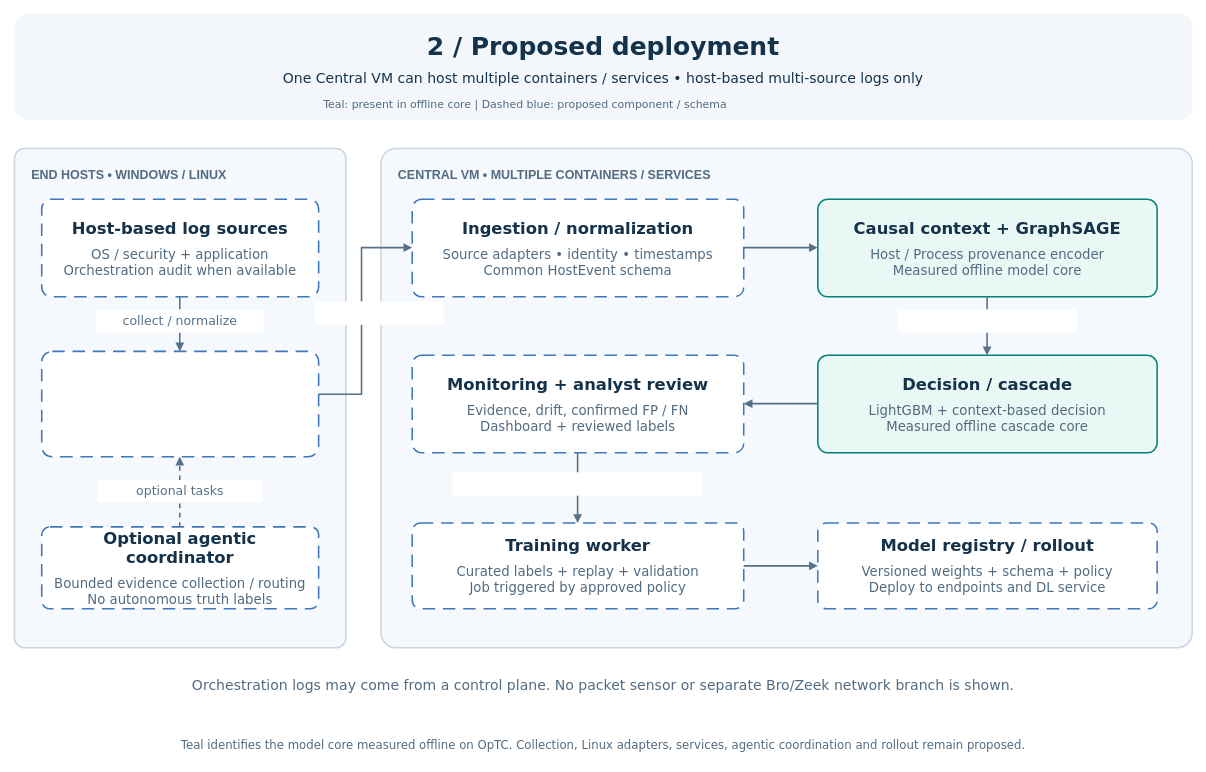
The diagram is 1206 pixels wide and 772 high, and some of its shapes have lost their labels. Each missing label, with the centre of its shape:
"confirmed data + trigger" belongs at pixel 577 483.
"context score" belongs at pixel 986 320.
"Endpoint agent Native collector + schema adapter LightGBM triage: validated core" belongs at pixel 180 403.
"evidence + score" belongs at pixel 378 312.
